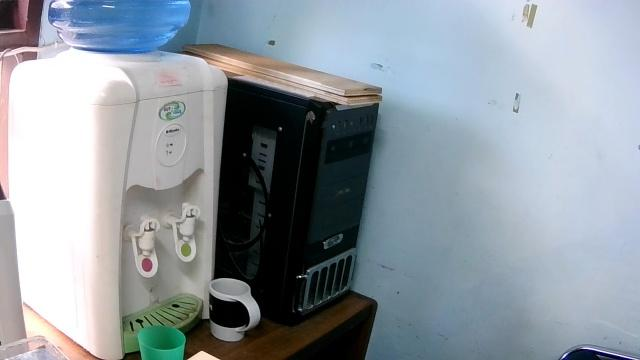Dispenser: (6, 0, 228, 358)
